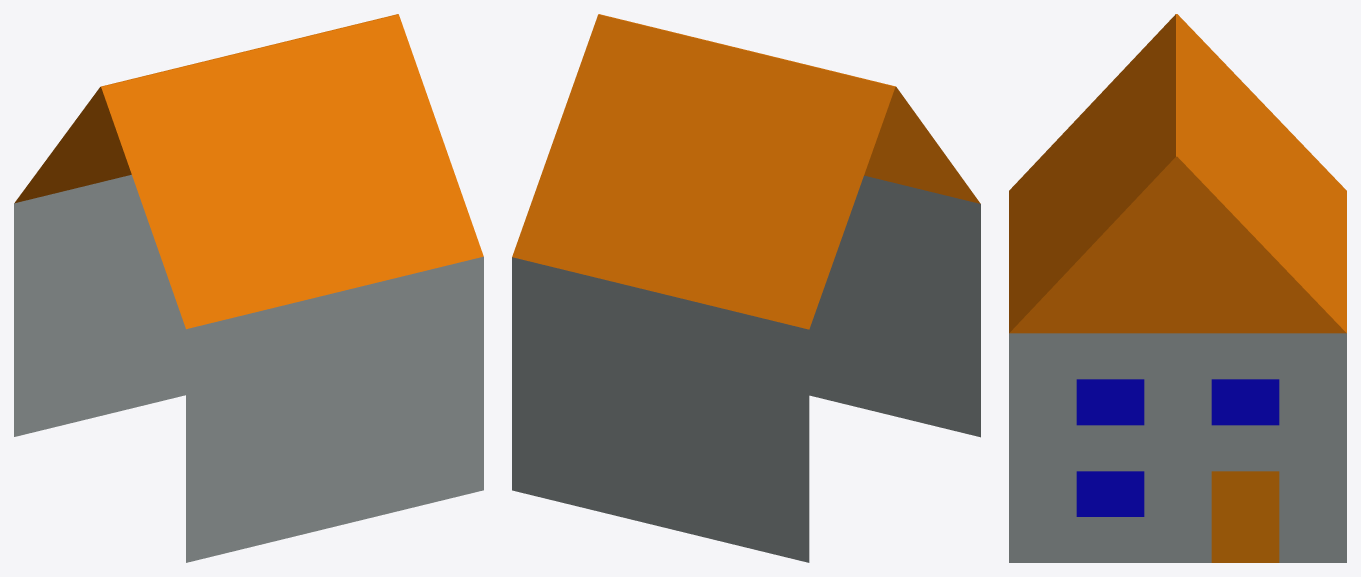
The model's file is House.glb.
The picture shows the model from 3 angles, left to right: view 1: azimuth 30°, elevation 25°; view 2: azimuth 150°, elevation 25°; view 3: azimuth 270°, elevation 25°; orthographic projection.
Parts seen in each view (by area): view 1: Base, Roof; view 2: Base, Roof; view 3: Roof, Base.
Part boxes in pixels (box(x1,y1,x2,y2)): Base: box(14, 174, 483, 562); Roof: box(14, 14, 483, 329); Base: box(512, 175, 980, 562); Roof: box(512, 14, 980, 329); Roof: box(1009, 14, 1346, 333); Base: box(1009, 333, 1346, 562).
Bounding box in the file's own units: 1 × 1.33 × 1.
